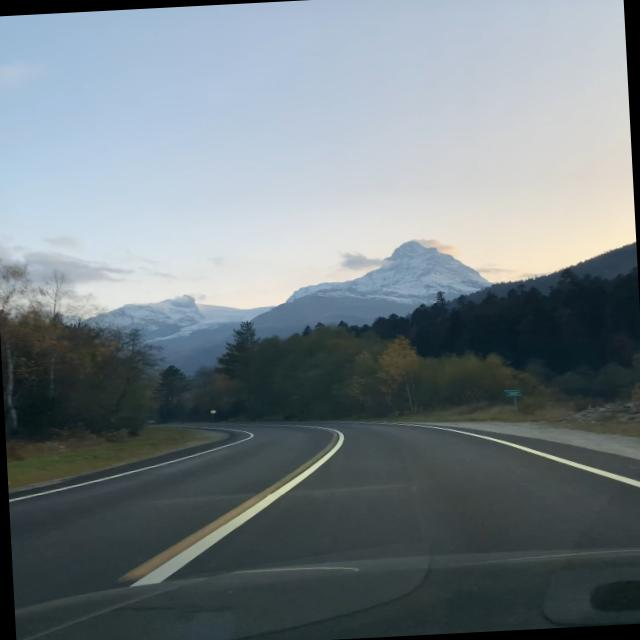asphalt: (9, 422, 640, 610)
